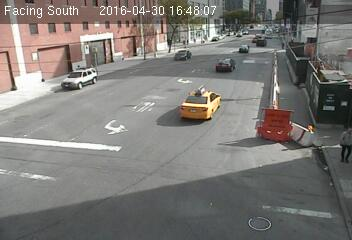neg: (68, 63, 90, 93), (190, 84, 211, 112)
pos: (331, 125, 351, 166)
